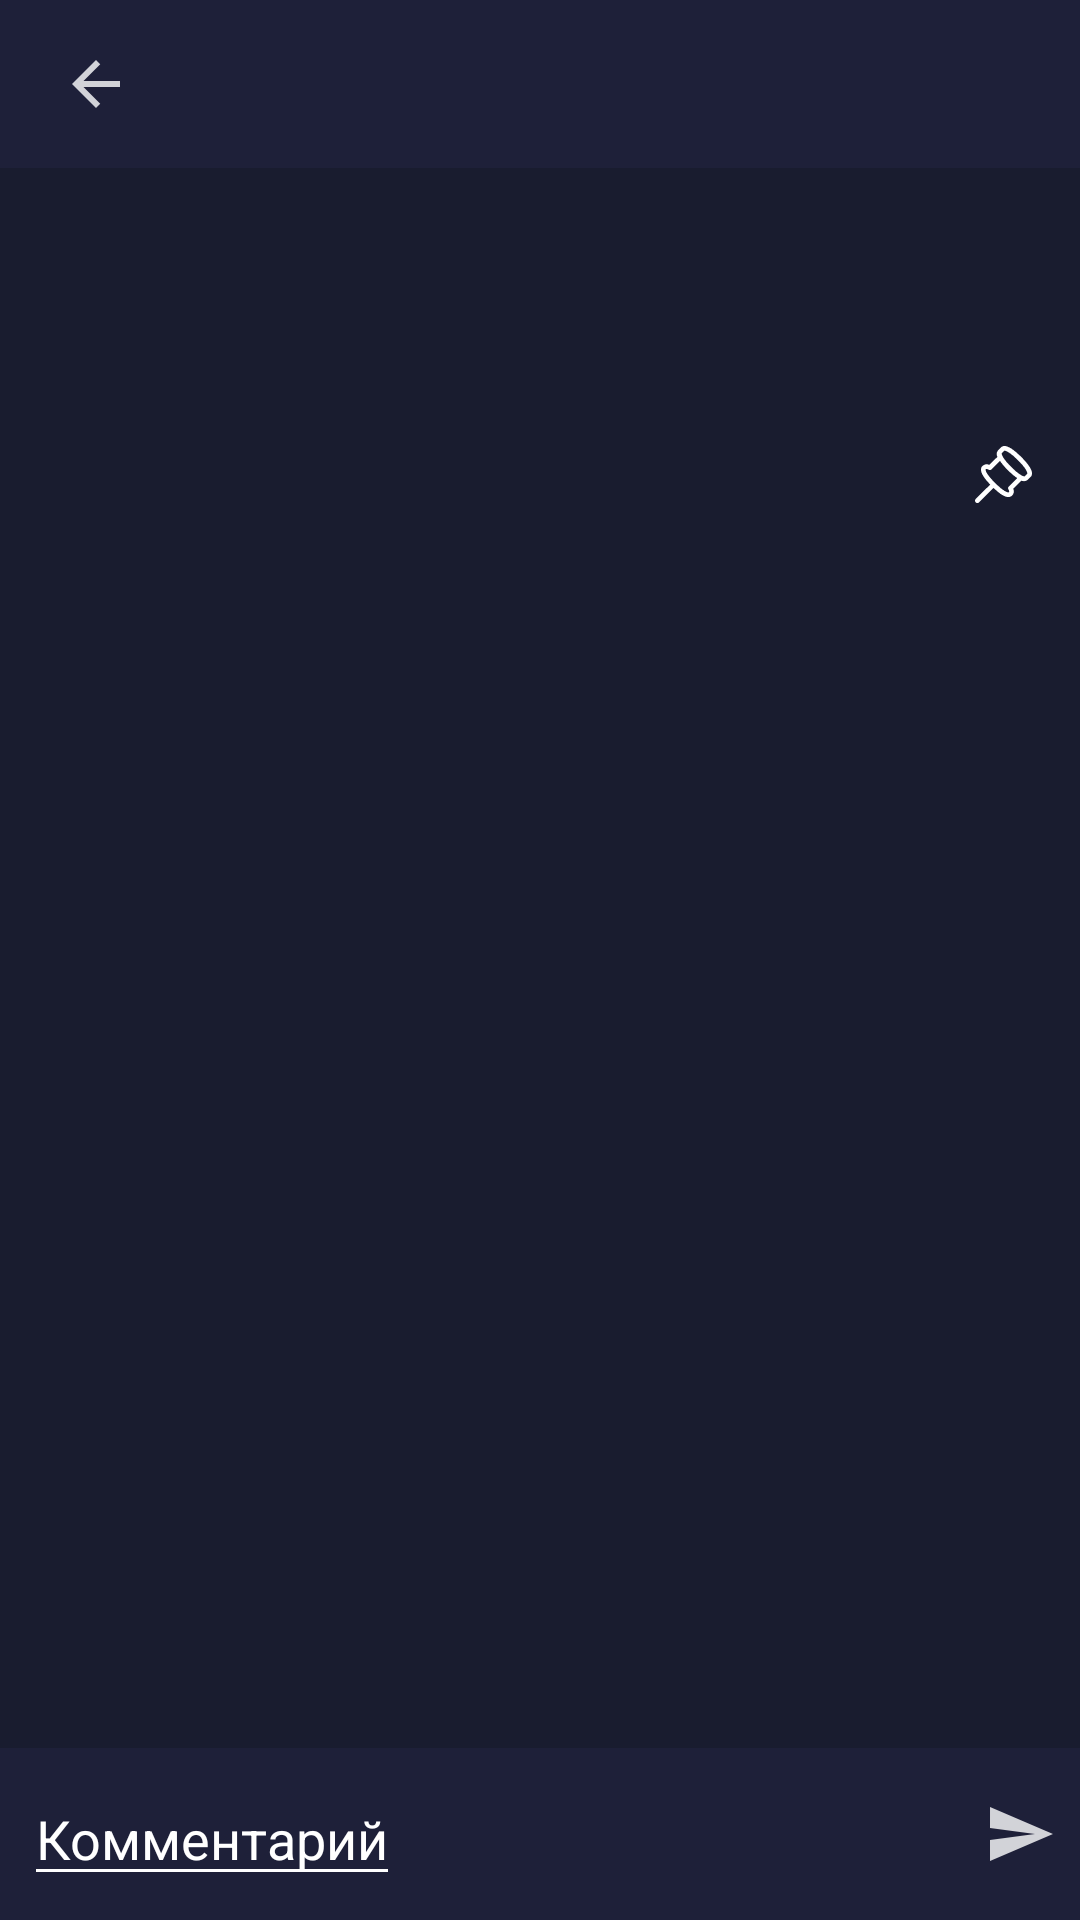

Where to tap for icons on this 1080 x 1920 app screen, as point (x, y):
back: point (96, 84)
pin: point (1003, 474)
send: point (1021, 1834)
